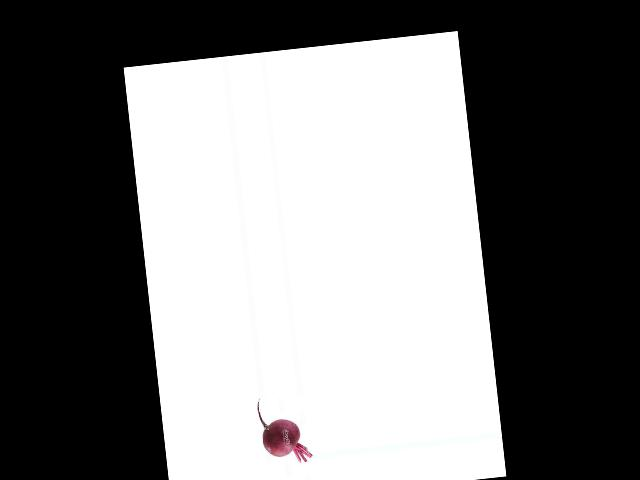beet: (256, 393, 312, 466)
